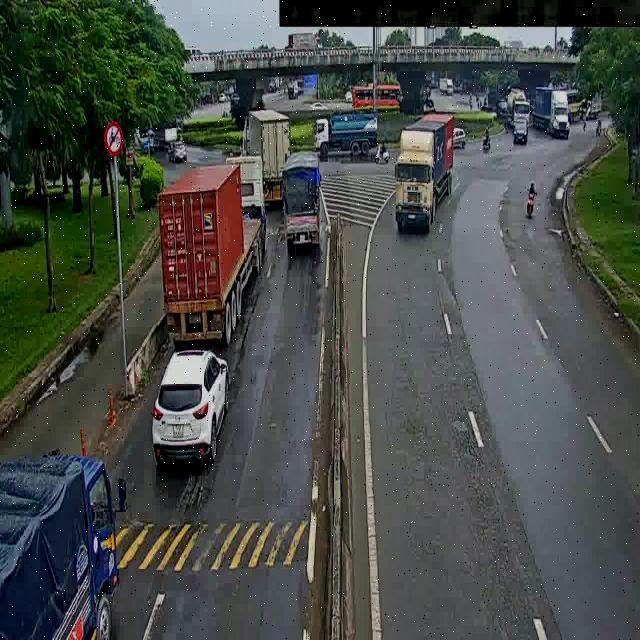bus: (340, 78, 407, 107)
car: (147, 346, 220, 479), (391, 134, 451, 229), (163, 140, 192, 167)
motorbike: (524, 180, 545, 224), (591, 113, 605, 140), (479, 126, 494, 147)
person: (502, 126, 516, 174), (497, 145, 506, 182)
truck: (1, 437, 126, 640), (151, 151, 267, 350), (279, 143, 325, 259), (239, 112, 285, 201), (308, 110, 395, 155), (534, 84, 578, 145), (497, 83, 527, 116)
